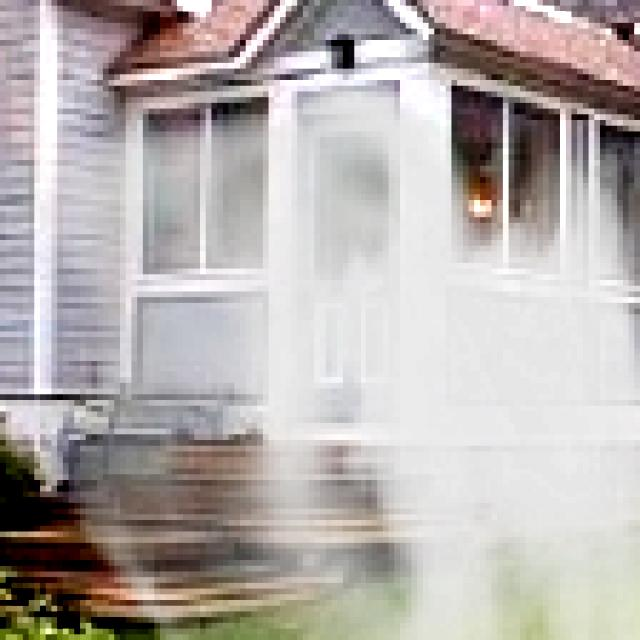smoke: (28, 80, 640, 640)
